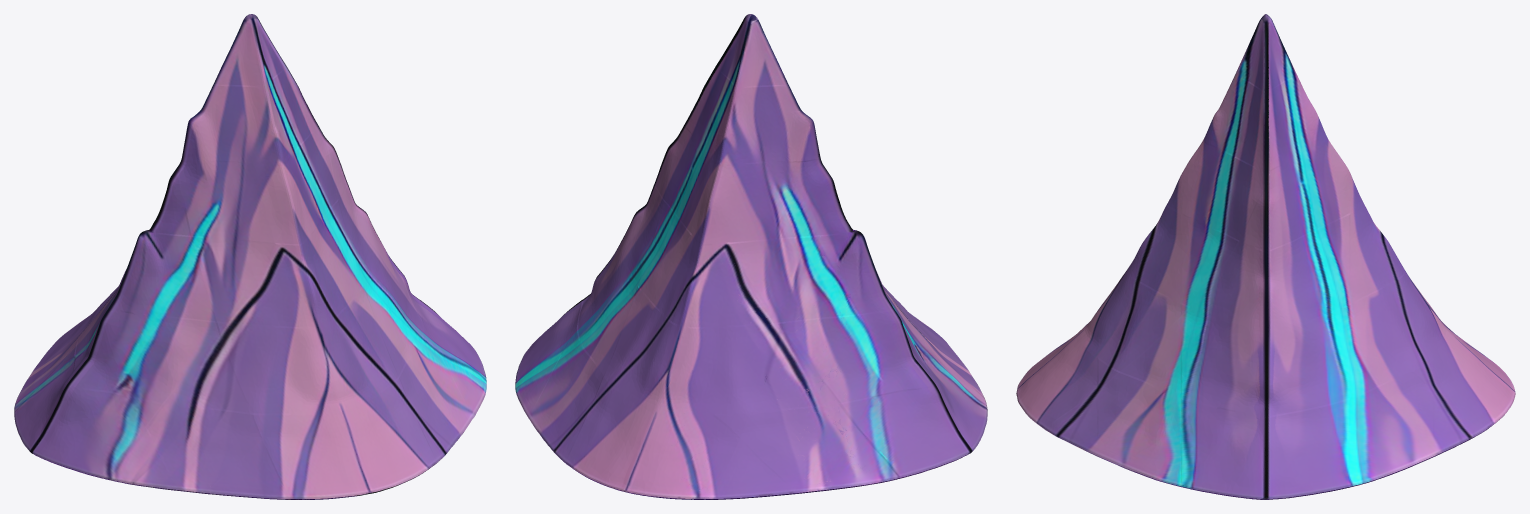
File: alien_mountain.glb
The picture shows the model from 3 angles, left to right: view 1: azimuth 30°, elevation 25°; view 2: azimuth 150°, elevation 25°; view 3: azimuth 270°, elevation 25°; orthographic projection.
Parts seen in each view (by area): view 1: tmp6l42nvx5.ply; view 2: tmp6l42nvx5.ply; view 3: tmp6l42nvx5.ply.
Part boxes in pixels (x1,y1,x2,y2): tmp6l42nvx5.ply: (14,14,486,499); tmp6l42nvx5.ply: (515,14,987,499); tmp6l42nvx5.ply: (1016,14,1515,499).
Size of the model in its own units: 2 by 1.68 by 1.99.
Materials: 1 (1 with a texture image).
